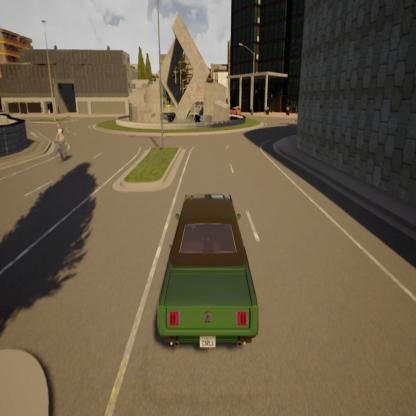Cars: (154, 183, 264, 372), (229, 103, 244, 118)
